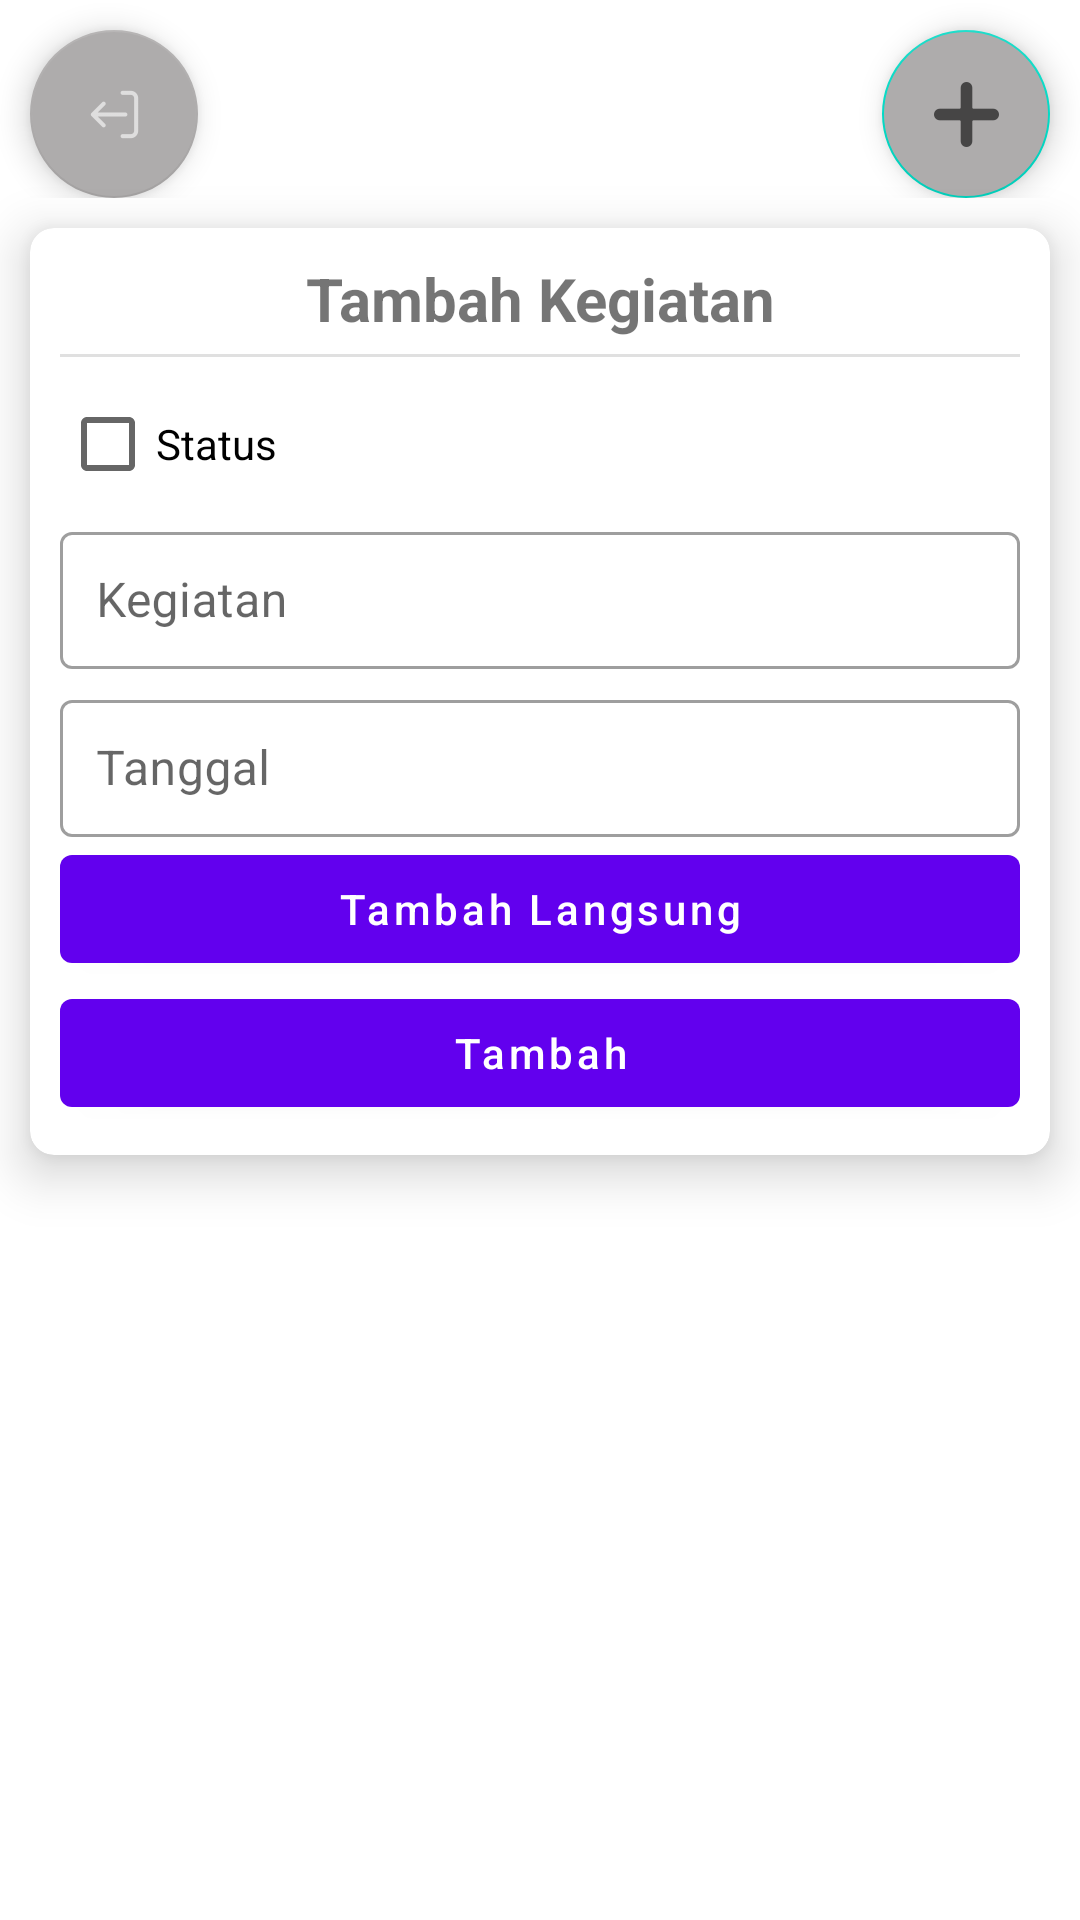

Point at icon controls on the screen. Image size 1080×1920, points as point (x, y).
add: point (966, 114)
